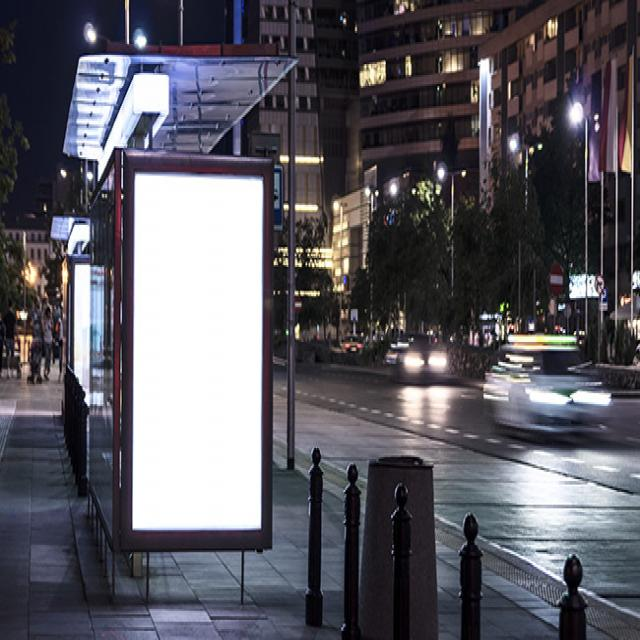Werbetafel frei: (118, 150, 275, 558)
